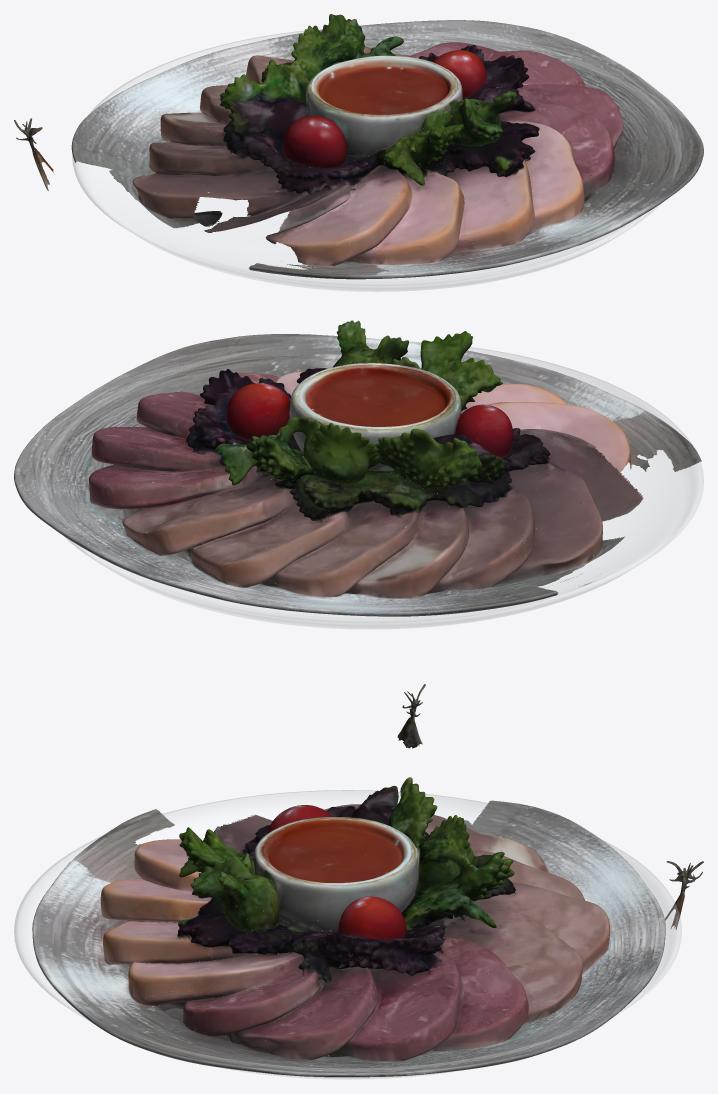
Rendered from kolbasa.glb.
3 renders of one model, top to bottom at view 1: azimuth 30°, elevation 25°; view 2: azimuth 150°, elevation 25°; view 3: azimuth 270°, elevation 25°, orthographic. The views are drawn at different scales.
Parts seen in each view (by area): view 1: kolbasa, tarelka; view 2: kolbasa, tarelka; view 3: kolbasa, tarelka.
Part boxes in pixels (x1,y1,x2,y2): kolbasa: (14, 14, 703, 279); tarelka: (72, 29, 681, 291); kolbasa: (14, 320, 701, 748); tarelka: (39, 342, 703, 629); kolbasa: (32, 777, 703, 1077); tarelka: (14, 790, 681, 1079).
Size of the model in its own units: 0.9377 by 0.3163 by 0.9501.
Materials: 2 (1 with a texture image).
